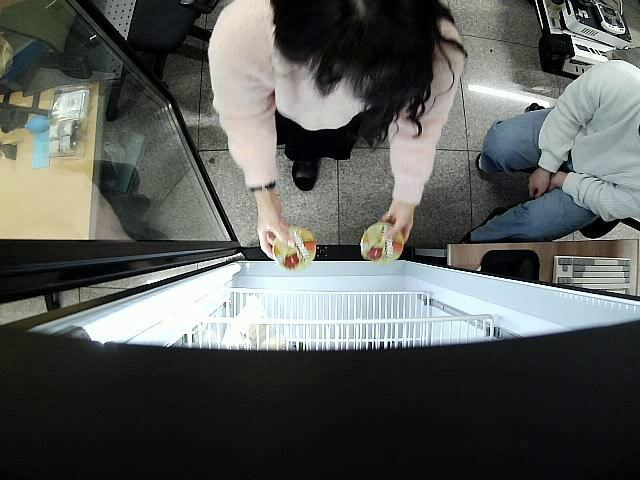04_chapagetti_S: (273, 227, 315, 271), (360, 223, 405, 264)
